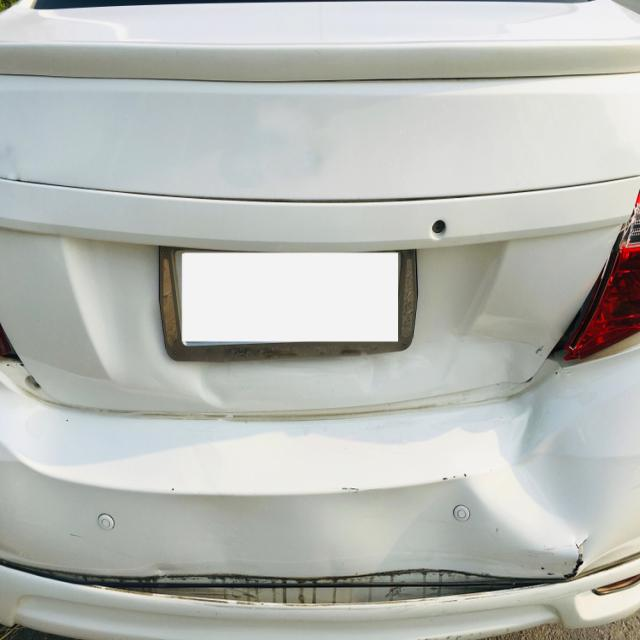dent: (469, 393, 609, 551), (461, 313, 544, 381)
